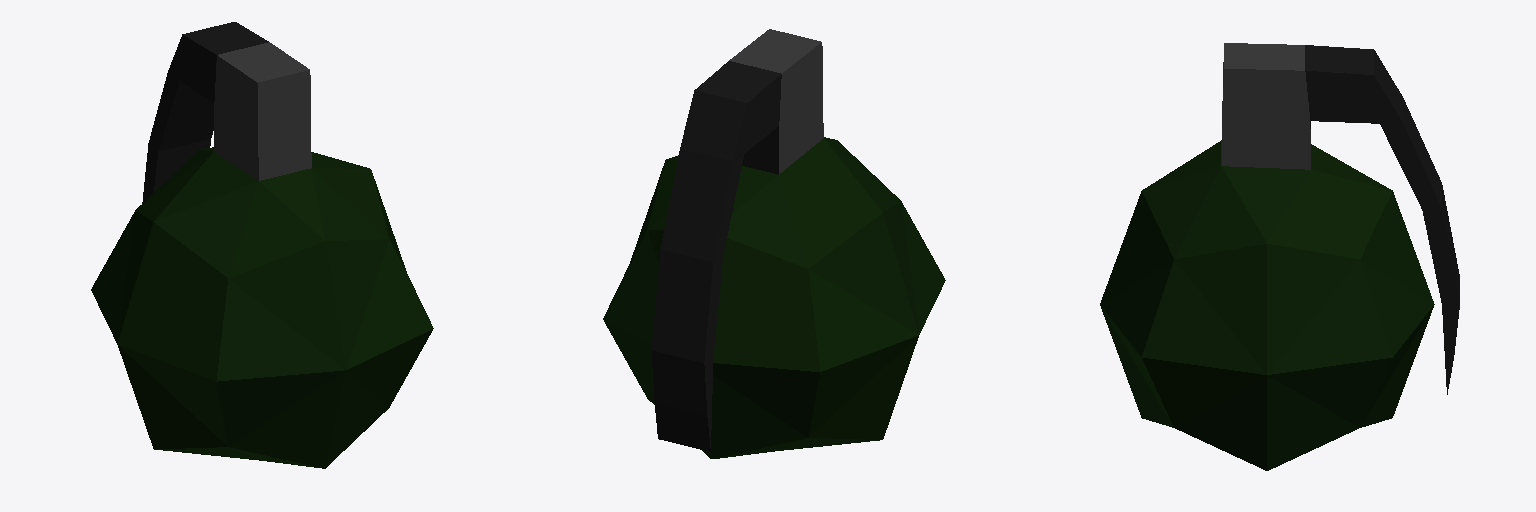
Rendered from GRENADE.obj.
3 renders of one model, left to right at view 1: azimuth 30°, elevation 25°; view 2: azimuth 150°, elevation 25°; view 3: azimuth 270°, elevation 25°, orthographic.
Visible parts, largest first — view 1: Cube_Cube.001; view 2: Cube_Cube.001; view 3: Cube_Cube.001.
Part boxes in pixels (x1,y1,x2,y2): Cube_Cube.001: (91, 22, 433, 468); Cube_Cube.001: (603, 29, 945, 458); Cube_Cube.001: (1100, 43, 1459, 470).
Bounding box in the file's own units: 3.92 × 5.17 × 4.22.